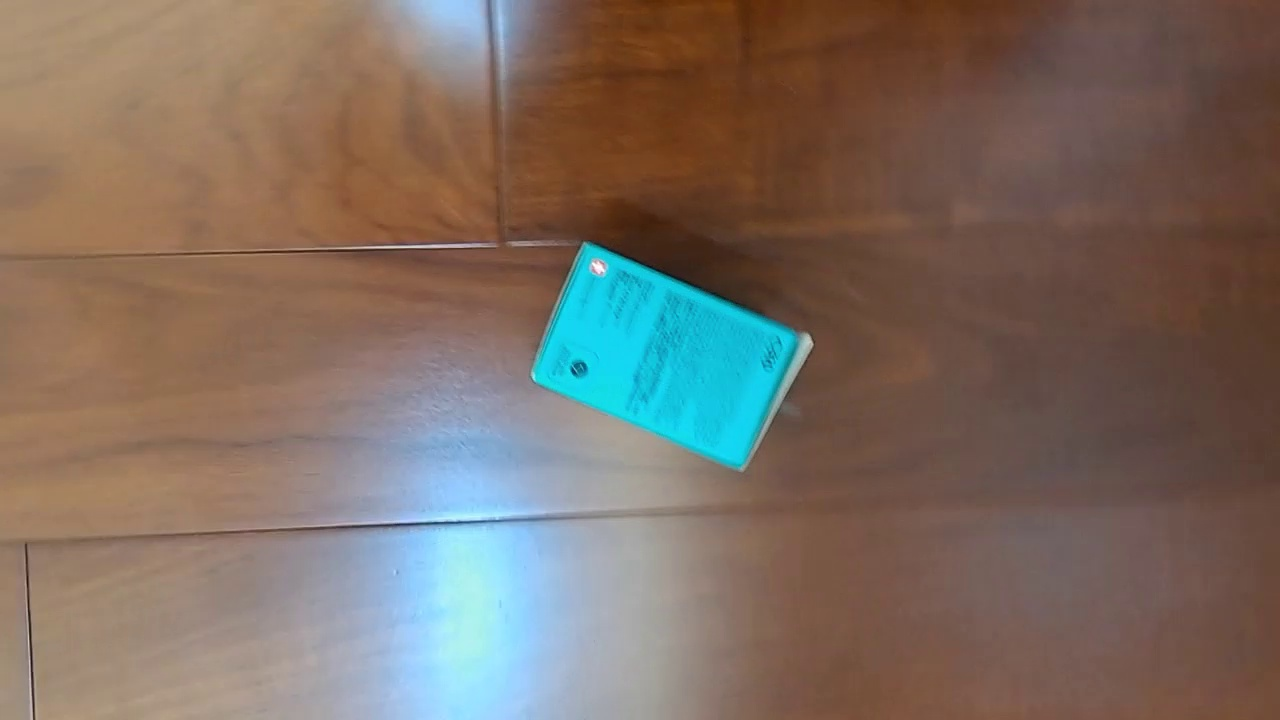webcam: (527, 239, 815, 474)
